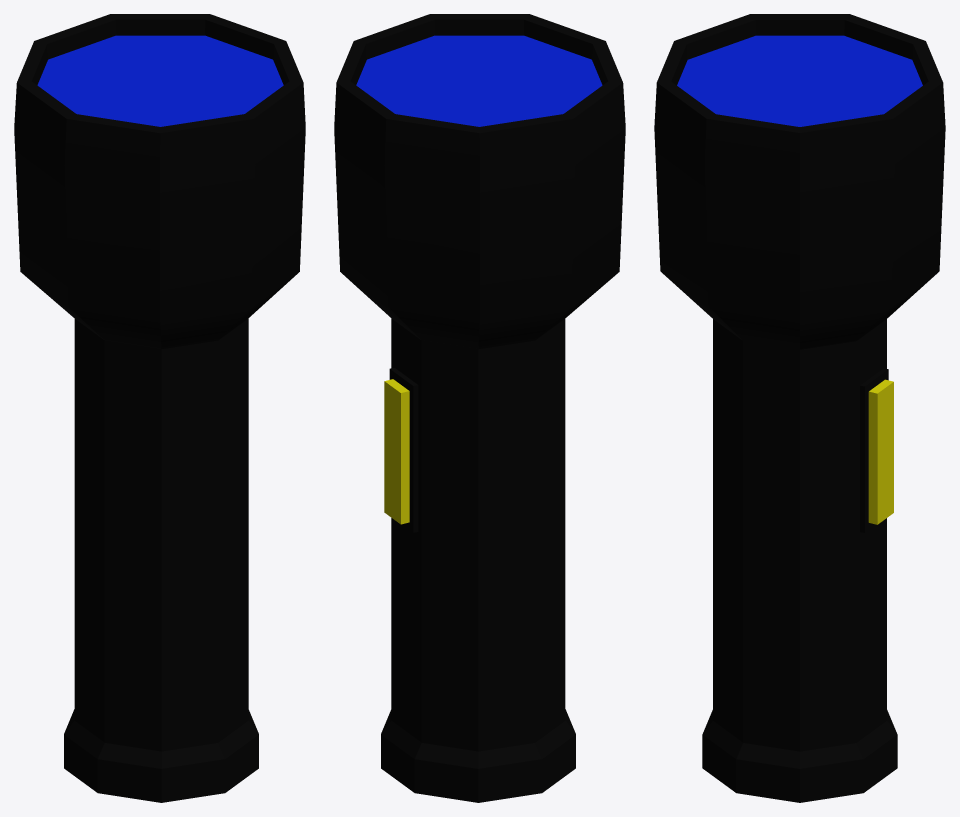
Rendered from ficklampa.fbx.
3 views of the same model, side by side, from view 1: azimuth 30°, elevation 25°; view 2: azimuth 150°, elevation 25°; view 3: azimuth 270°, elevation 25° (orthographic).
Parts seen in each view (by area): view 1: pCylinder1; view 2: pCylinder1; view 3: pCylinder1.
Boxes of the visible parts, left/top/right/bottom form: pCylinder1: left=14, top=14, right=305, bottom=802; pCylinder1: left=334, top=14, right=625, bottom=802; pCylinder1: left=654, top=14, right=945, bottom=802.
Size of the model in its own units: 15.53 by 41.14 by 15.77.
